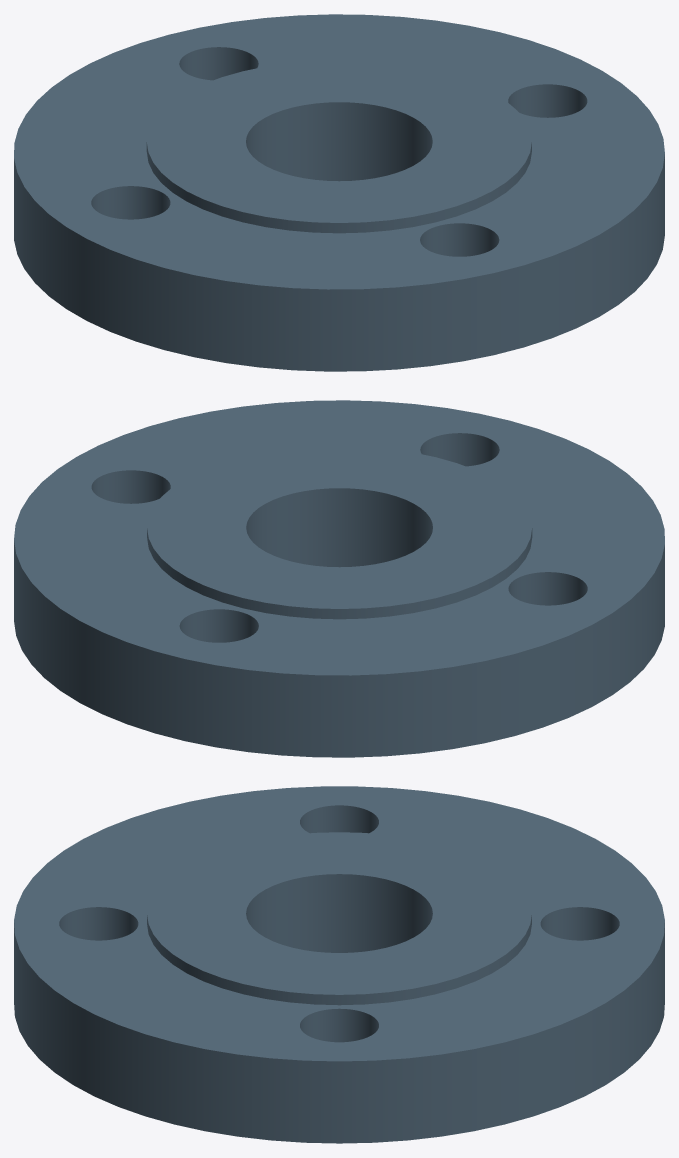
The model's file is flanec-ploskij-DN25-PN25.glb.
3 views of the same model, one above another, from view 1: azimuth 30°, elevation 25°; view 2: azimuth 150°, elevation 25°; view 3: azimuth 270°, elevation 25° (orthographic).
Visible parts, largest first — view 1: Open CASCADE STEP translator 7.9 9; view 2: Open CASCADE STEP translator 7.9 9; view 3: Open CASCADE STEP translator 7.9 9.
Part boxes in pixels (box(x1,y1,x2,y2)): Open CASCADE STEP translator 7.9 9: box(14, 14, 664, 371); Open CASCADE STEP translator 7.9 9: box(14, 400, 664, 757); Open CASCADE STEP translator 7.9 9: box(14, 786, 664, 1143).
Size of the model in its own units: 115 by 18 by 115.
